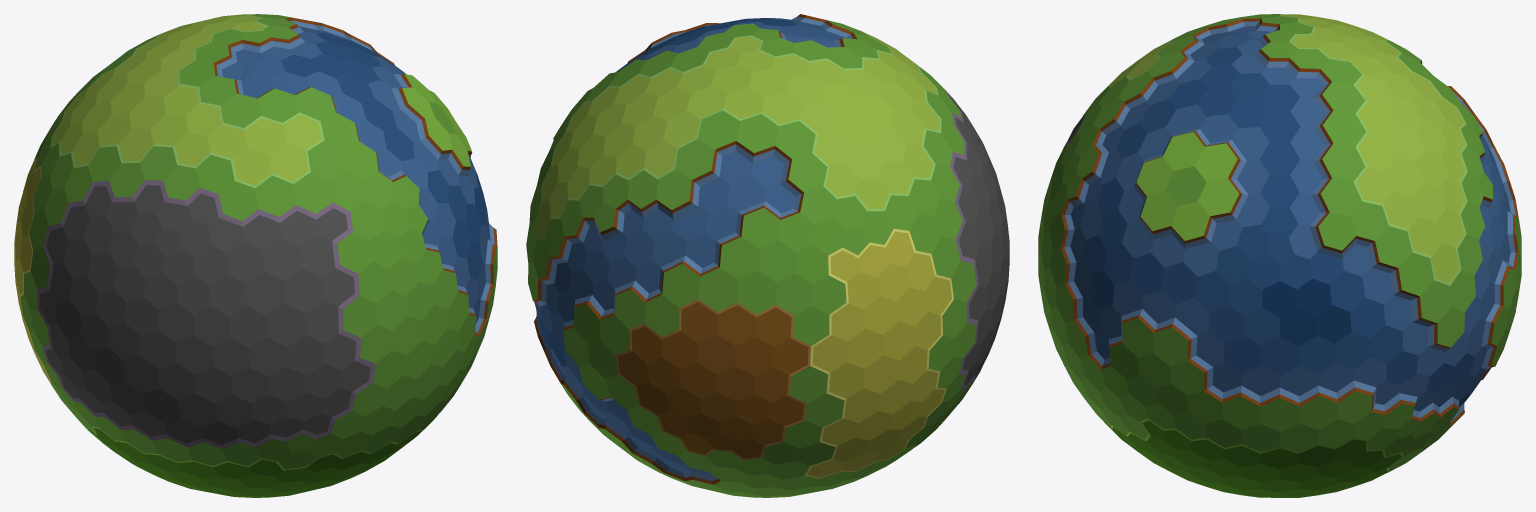
File: Planet.fbx
3 views of the same model, side by side, from view 1: azimuth 30°, elevation 25°; view 2: azimuth 150°, elevation 25°; view 3: azimuth 270°, elevation 25° (orthographic).
Visible parts, largest first — view 1: Planet; view 2: Planet; view 3: Planet.
Part boxes in pixels (left/top/right/bottom): Planet: left=14, top=14, right=497, bottom=497; Planet: left=526, top=14, right=1009, bottom=497; Planet: left=1038, top=14, right=1521, bottom=497.
Size of the model in its own units: 197 by 199 by 198.
